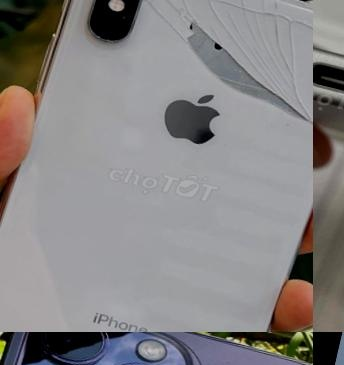physical_damage: (155, 15, 275, 92), (197, 0, 313, 66), (256, 76, 313, 159), (205, 72, 274, 118), (86, 0, 214, 22)
scratch: (154, 332, 241, 365)
